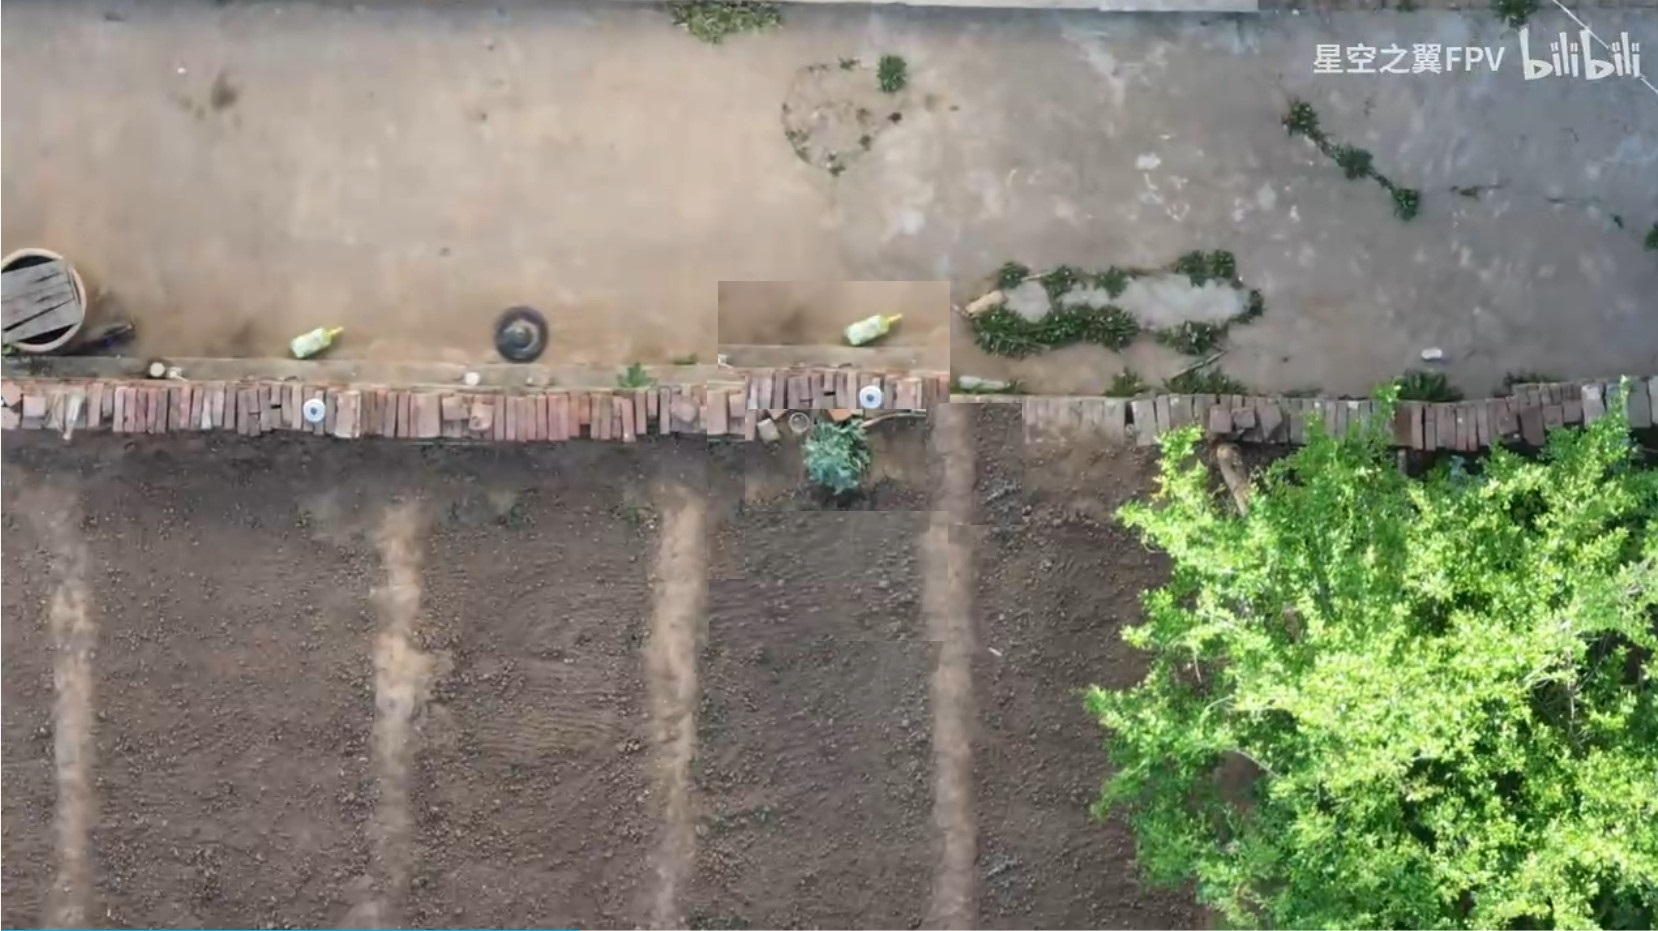Poppy: (796, 409, 881, 501)
